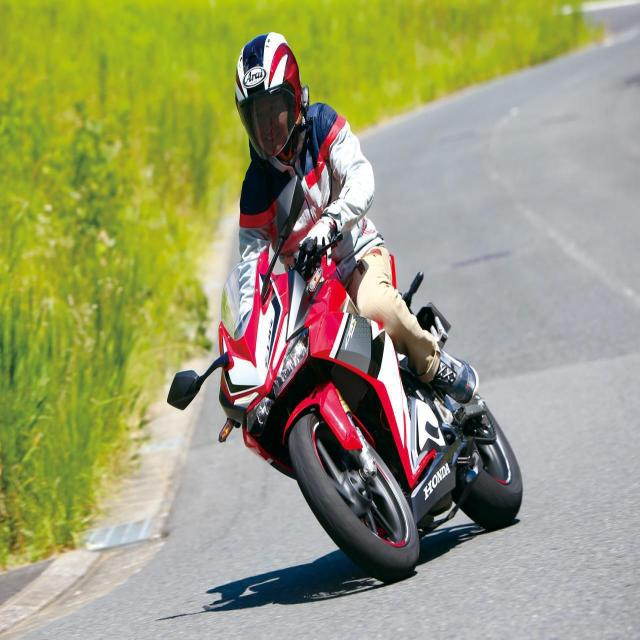helmet: (230, 28, 309, 166)
